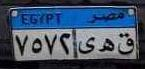2: (59, 31, 71, 56)
5: (30, 34, 42, 57)
7: (14, 32, 29, 58), (43, 32, 58, 57)
haa: (98, 34, 116, 54)
qaaf: (117, 31, 134, 56)
yaa: (77, 35, 96, 57)
